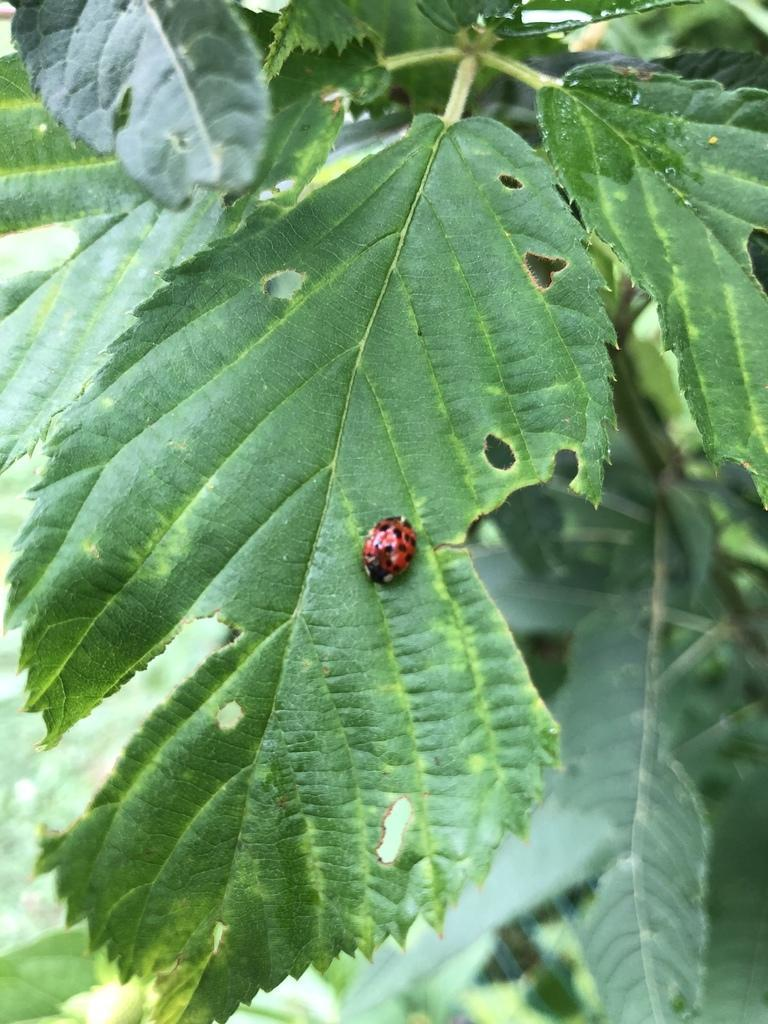ladybug: (361, 514, 420, 589)
